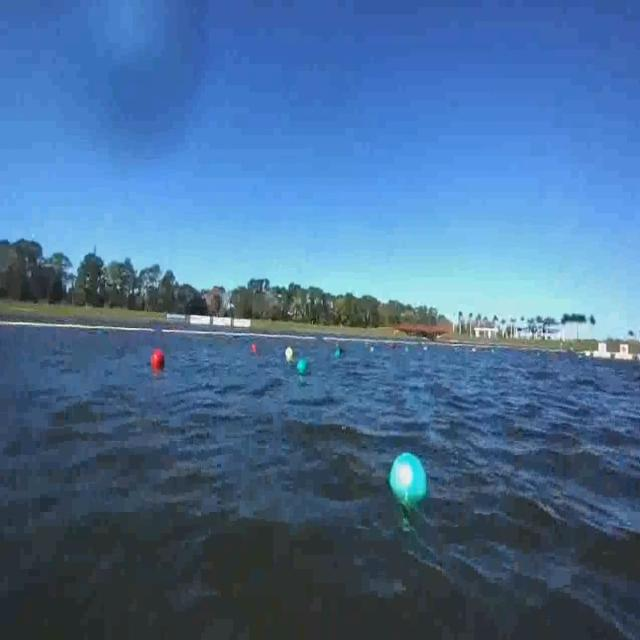green-buoy: (387, 453, 428, 511), (297, 358, 307, 374)
red-buoy: (152, 350, 164, 370)
yellow-buoy: (285, 347, 294, 361)
